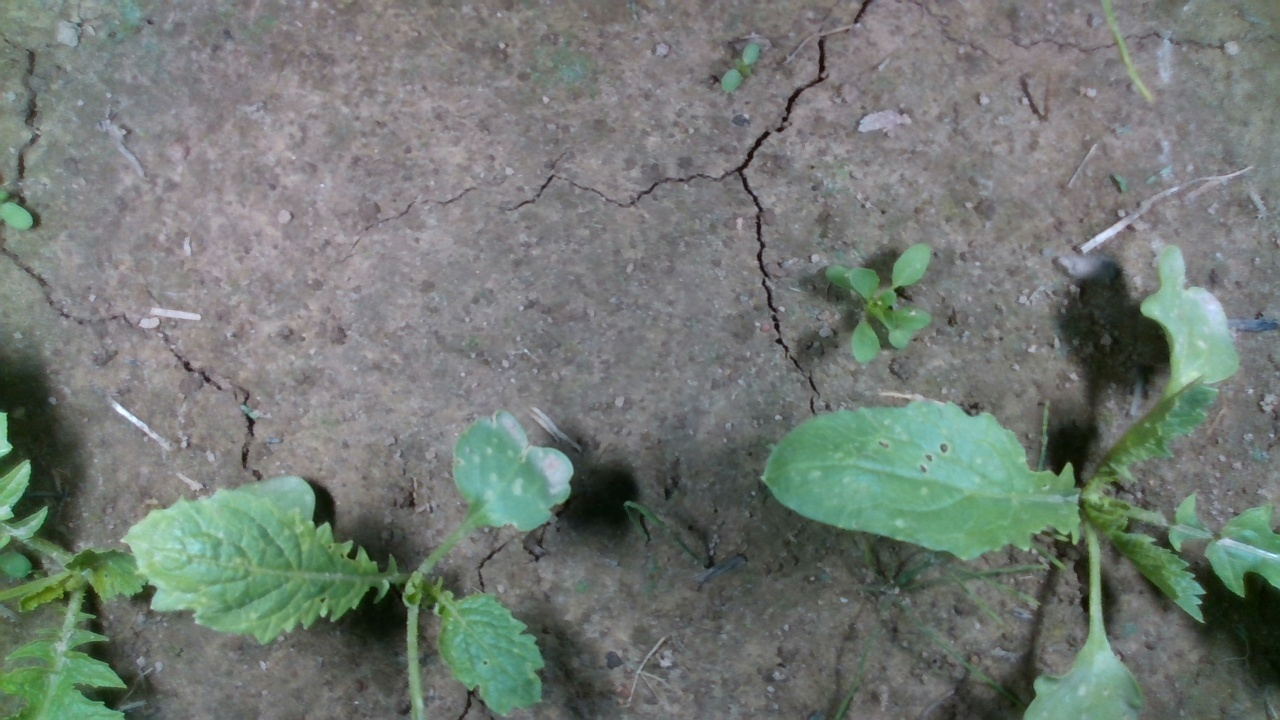weed: (720, 39, 761, 93)
